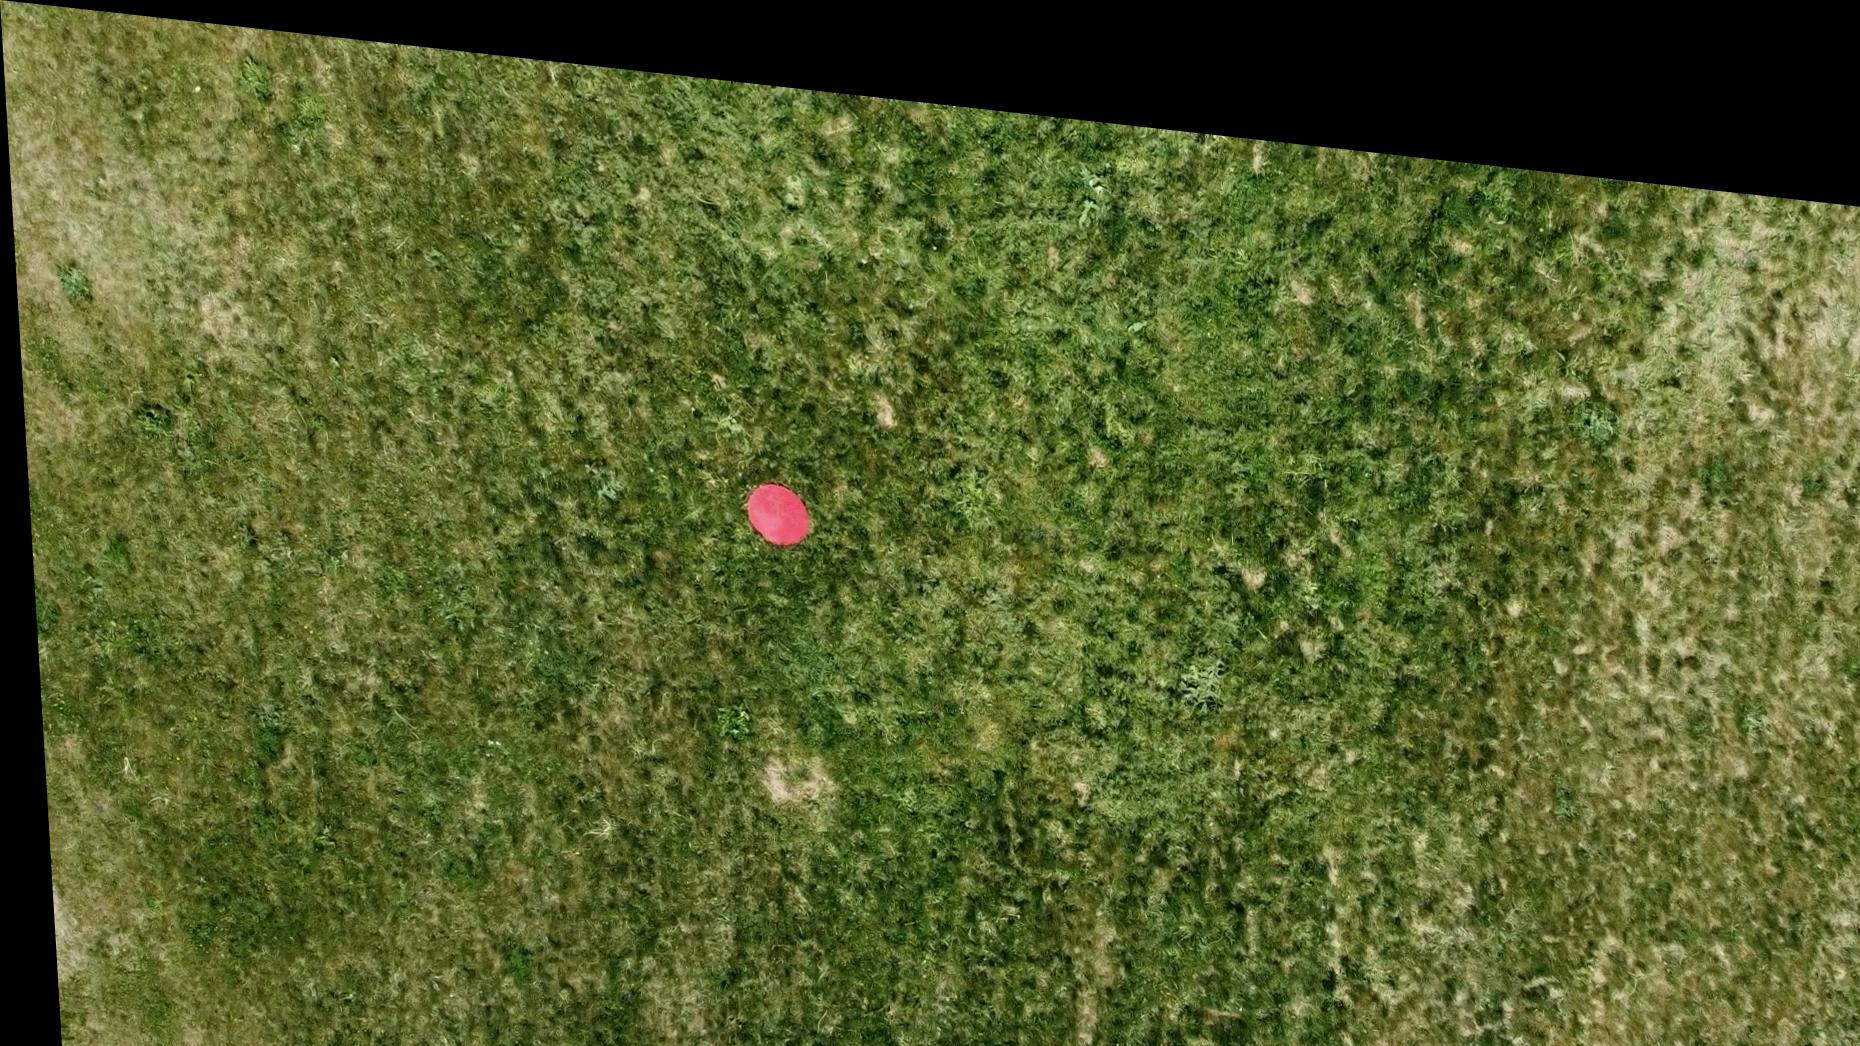Red: (737, 460, 807, 534)
